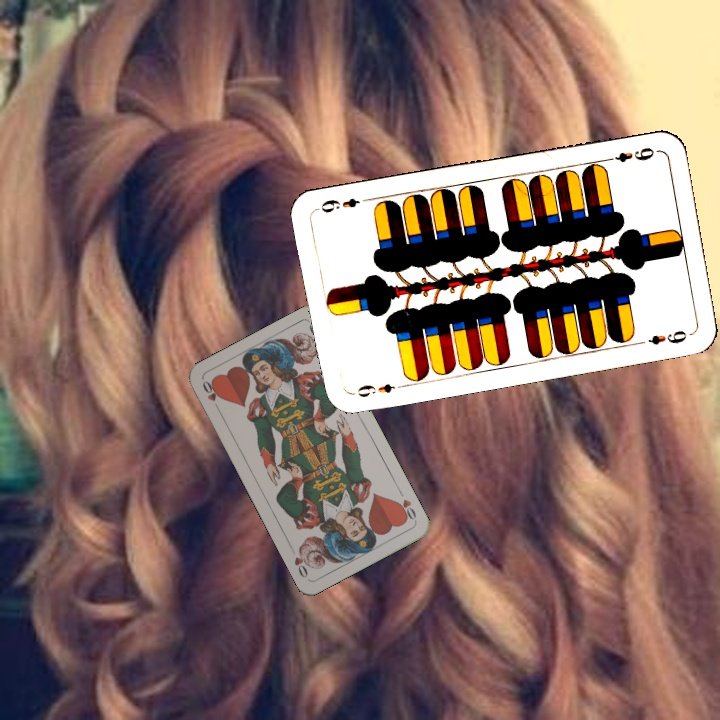E9: (347, 379, 406, 400), (601, 143, 657, 165)
HO: (392, 485, 419, 524), (198, 376, 223, 414)
